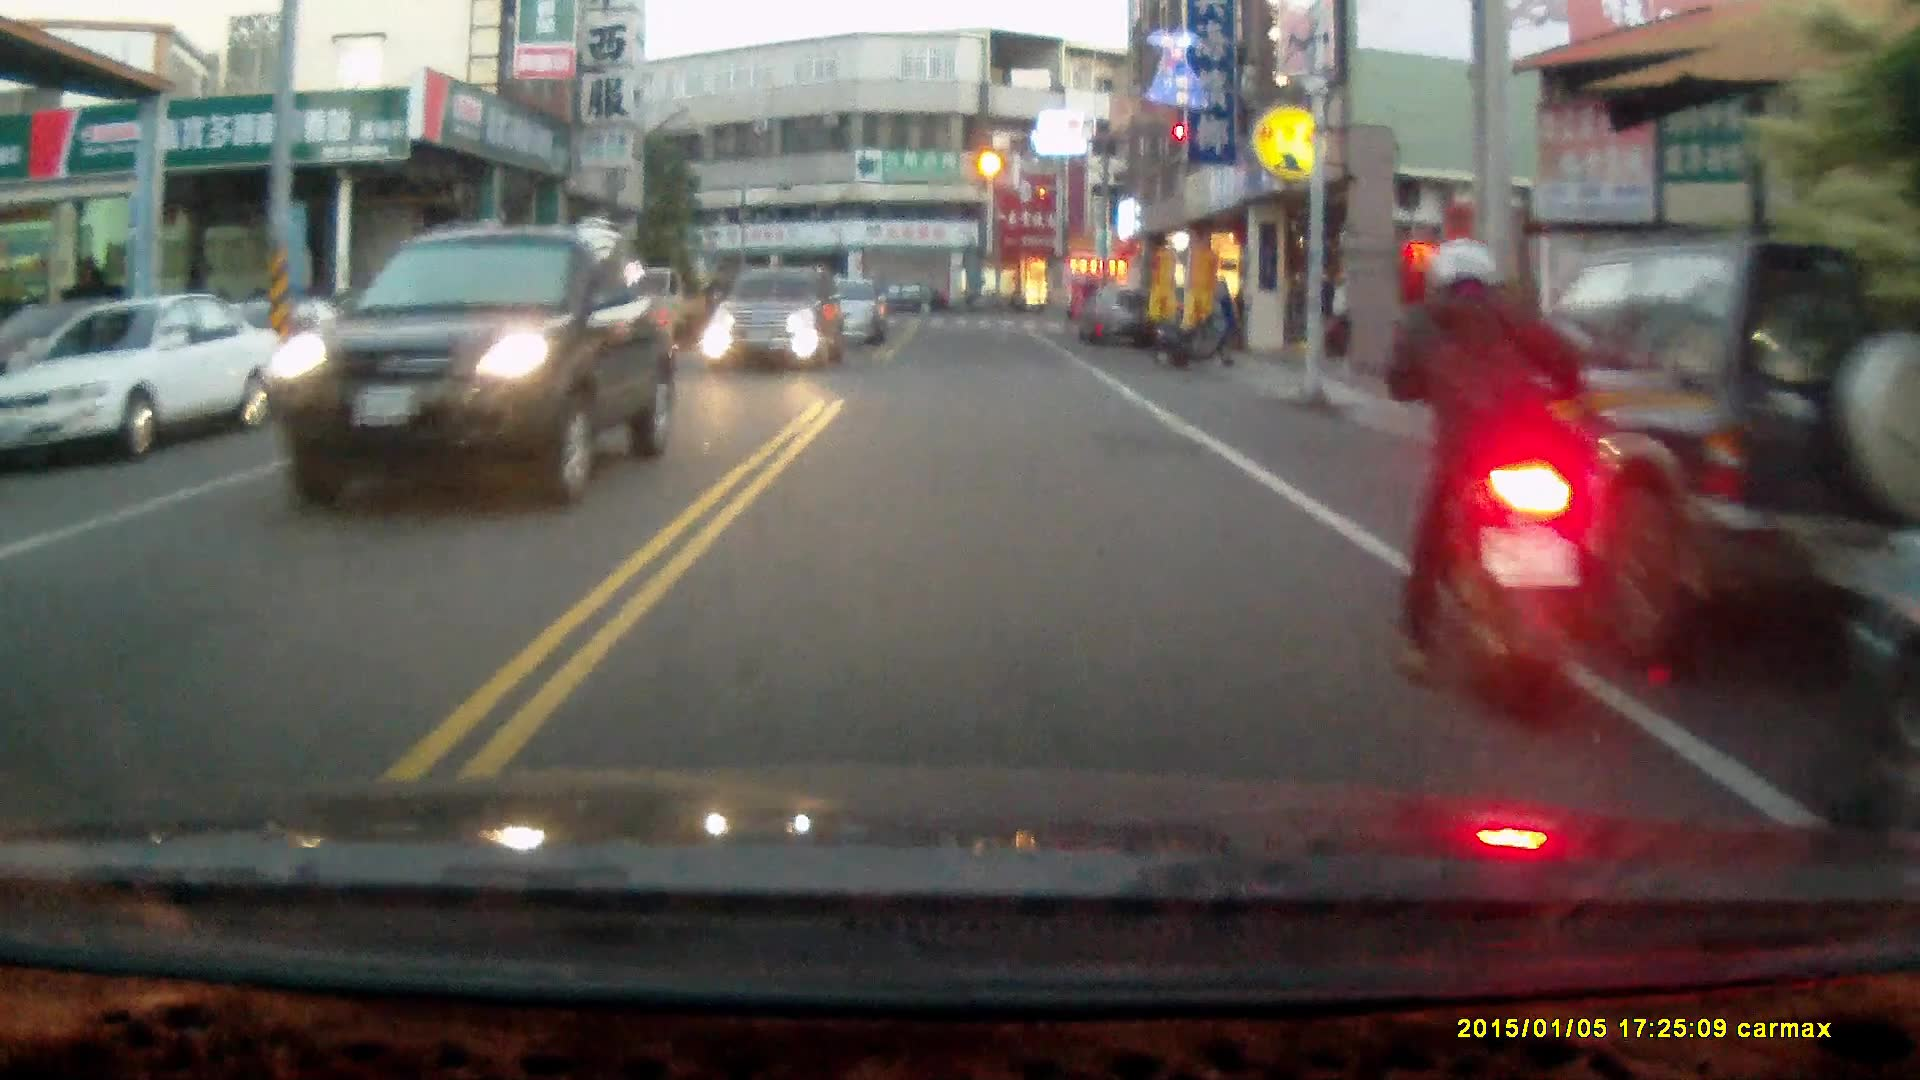rider: (1378, 237, 1618, 728)
vehicle: (1452, 237, 1920, 656), (271, 226, 661, 514), (1, 295, 296, 461), (706, 268, 849, 374), (1079, 287, 1154, 351)
